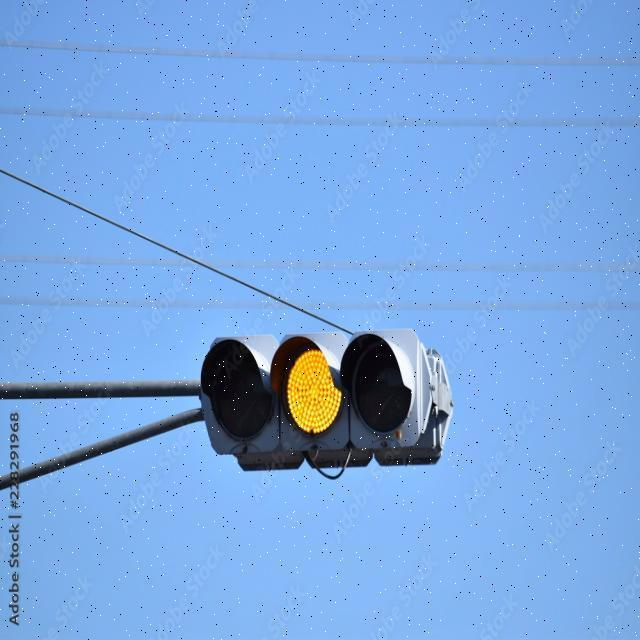yellow_light: (278, 342, 338, 466)
